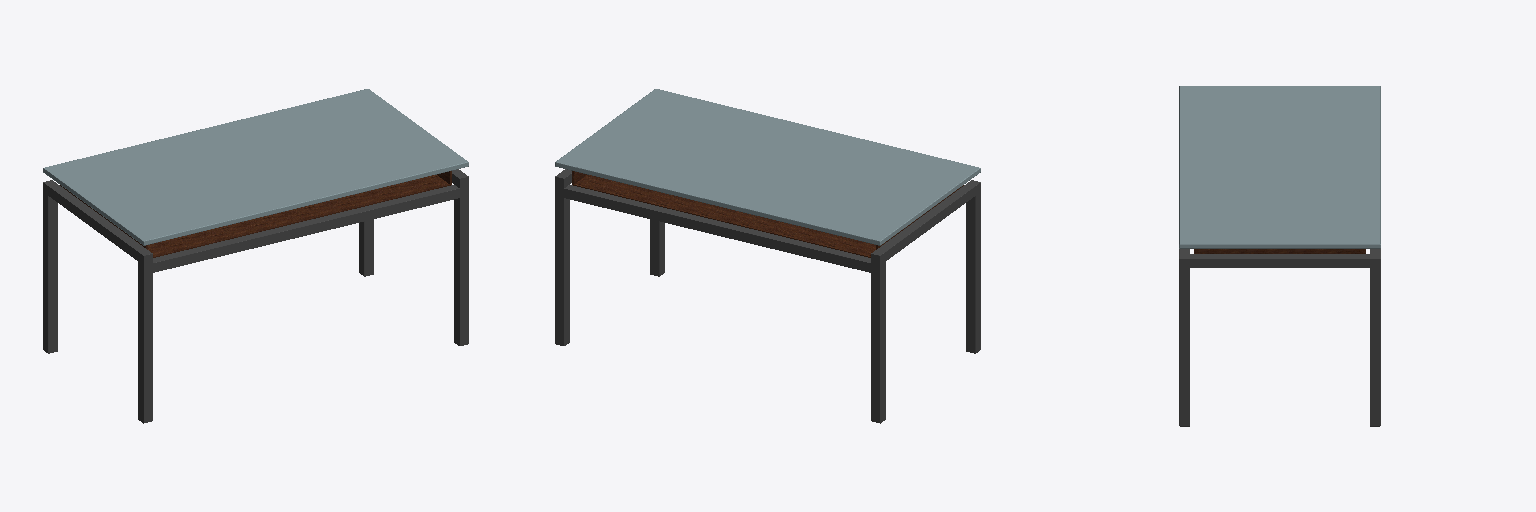
The picture shows the model from 3 angles: view 1: azimuth 30°, elevation 25°; view 2: azimuth 150°, elevation 25°; view 3: azimuth 270°, elevation 25°; orthographic projection.
Bounding box in the file's own units: 1.4 × 0.75 × 0.75.
3 materials, 2 textured.